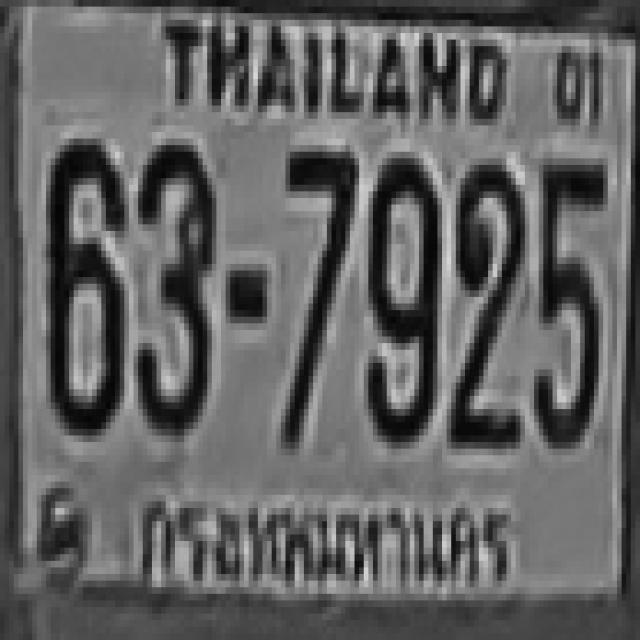2: (449, 165, 523, 442)
3: (133, 138, 212, 429)
5: (530, 158, 603, 442)
6: (41, 132, 120, 429)
7: (281, 145, 354, 436), (281, 145, 354, 389), (281, 145, 354, 317)
9: (364, 148, 437, 439)
Bangkok: (119, 476, 529, 604)
